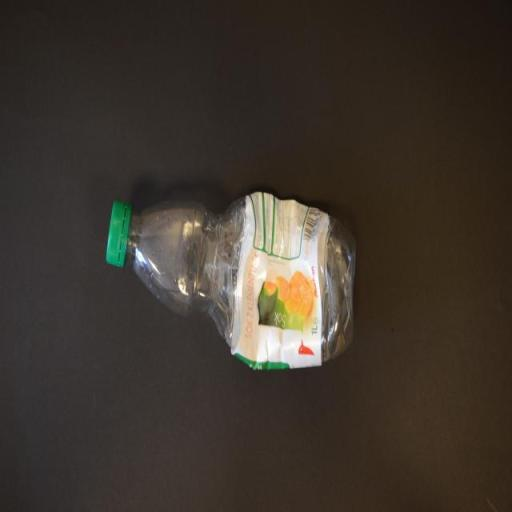plastic: (105, 191, 356, 373)
